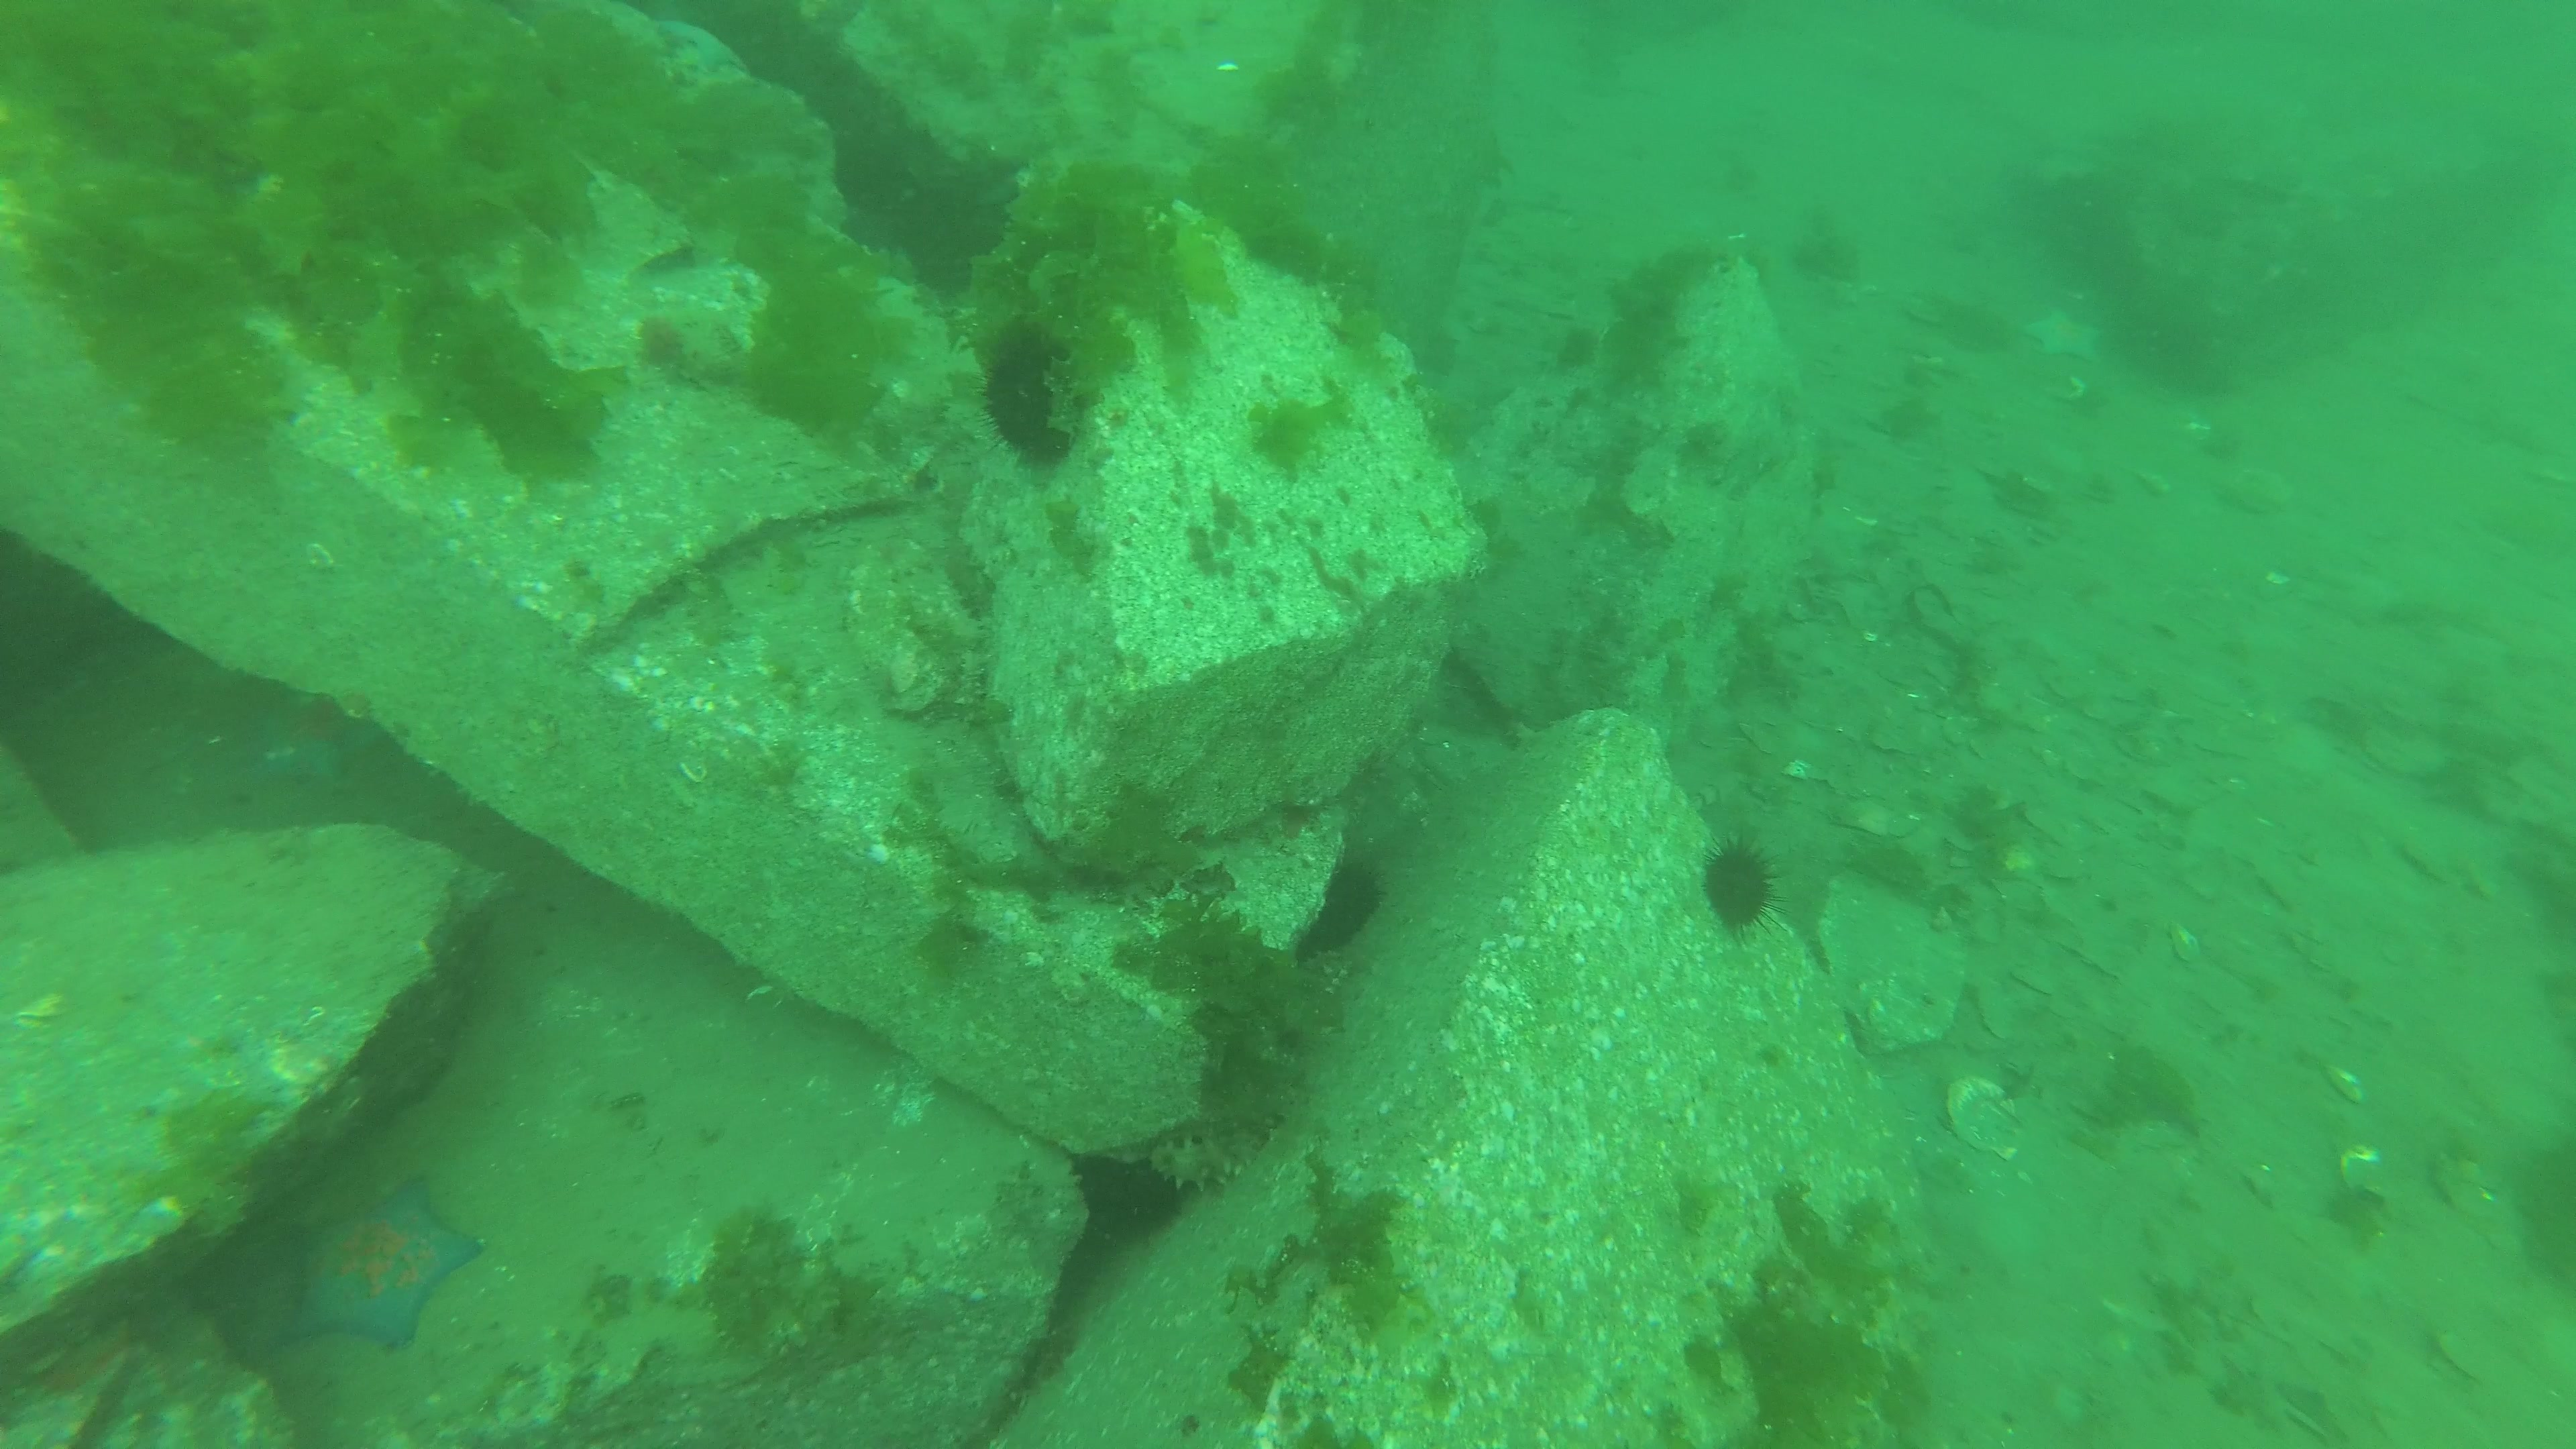echinus: (968, 329, 1088, 465), (1698, 828, 1790, 943), (1313, 860, 1391, 948)
holothurian: (1143, 1132, 1261, 1192), (952, 649, 991, 722)
scallop: (1944, 1074, 2026, 1162)
starfish: (283, 1175, 487, 1352), (235, 704, 389, 791), (2020, 304, 2105, 364)
